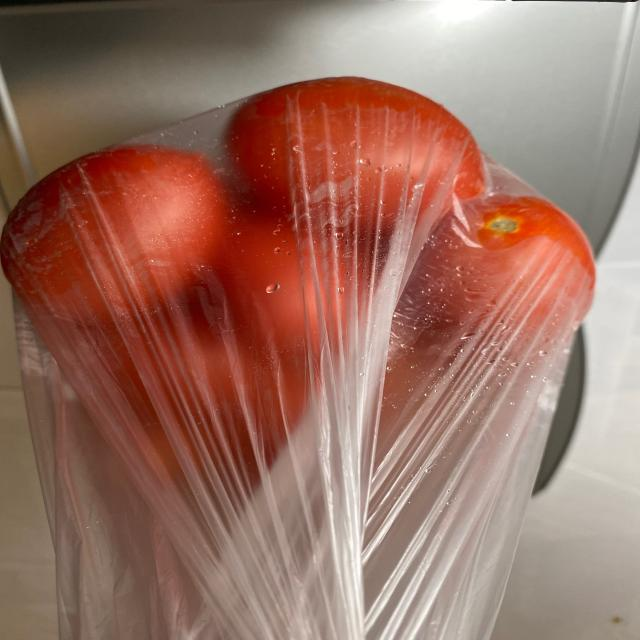tomato: (13, 89, 594, 476)
